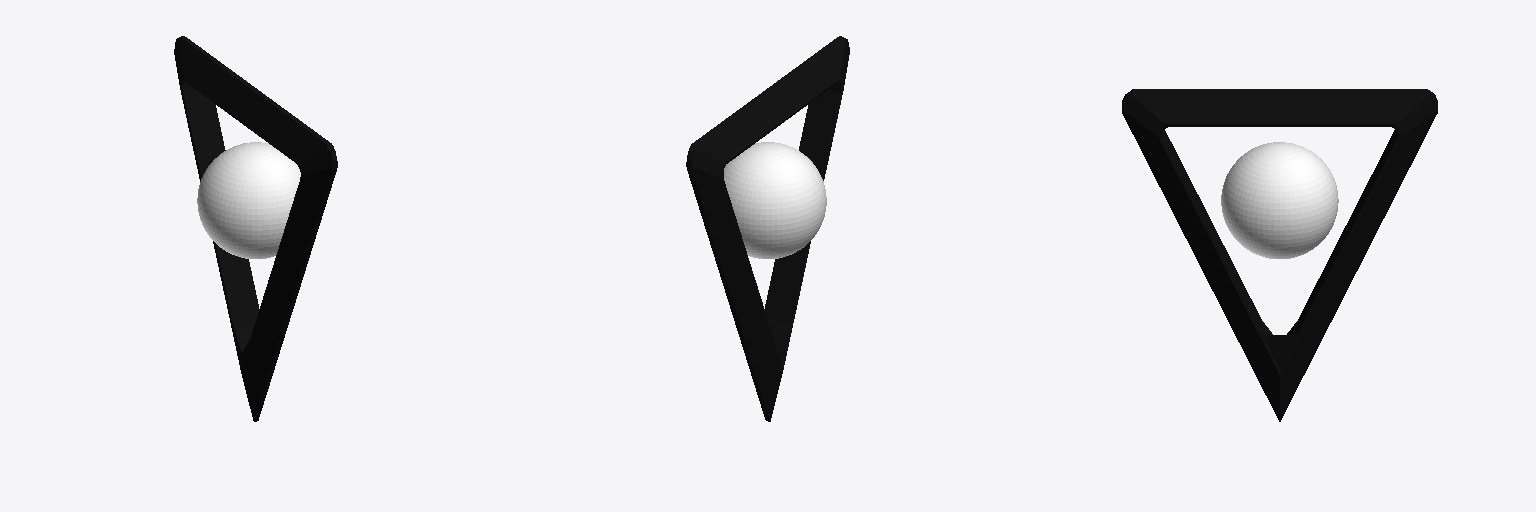
The model's file is poi2.obj.
3 views of the same model, side by side, from view 1: azimuth 30°, elevation 25°; view 2: azimuth 150°, elevation 25°; view 3: azimuth 270°, elevation 25° (orthographic).
Parts seen in each view (by area): view 1: Torus.000_Torus.005, Sphere; view 2: Torus.000_Torus.005, Sphere; view 3: Torus.000_Torus.005, Sphere.
Boxes of the visible parts, x1=… form: Torus.000_Torus.005: x1=174, y1=36, x2=337, y2=421; Sphere: x1=197, y1=142, x2=300, y2=258; Torus.000_Torus.005: x1=686, y1=36, x2=849, y2=421; Sphere: x1=724, y1=142, x2=826, y2=258; Torus.000_Torus.005: x1=1122, y1=89, x2=1437, y2=421; Sphere: x1=1221, y1=142, x2=1338, y2=258.
Bounding box in the file's own units: 2 × 6.23 × 5.38.